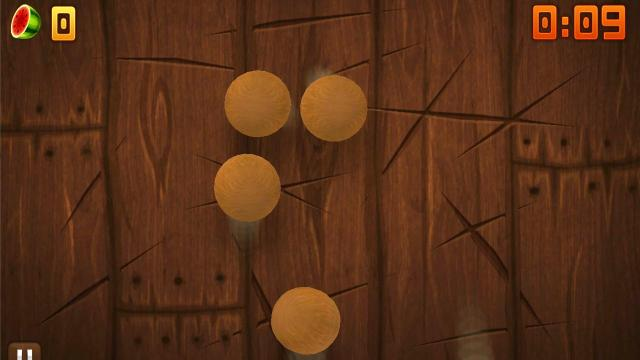fruit: (270, 286, 342, 354), (224, 68, 292, 138), (300, 74, 370, 142), (214, 153, 282, 221)
ignore: (10, 4, 42, 40)
